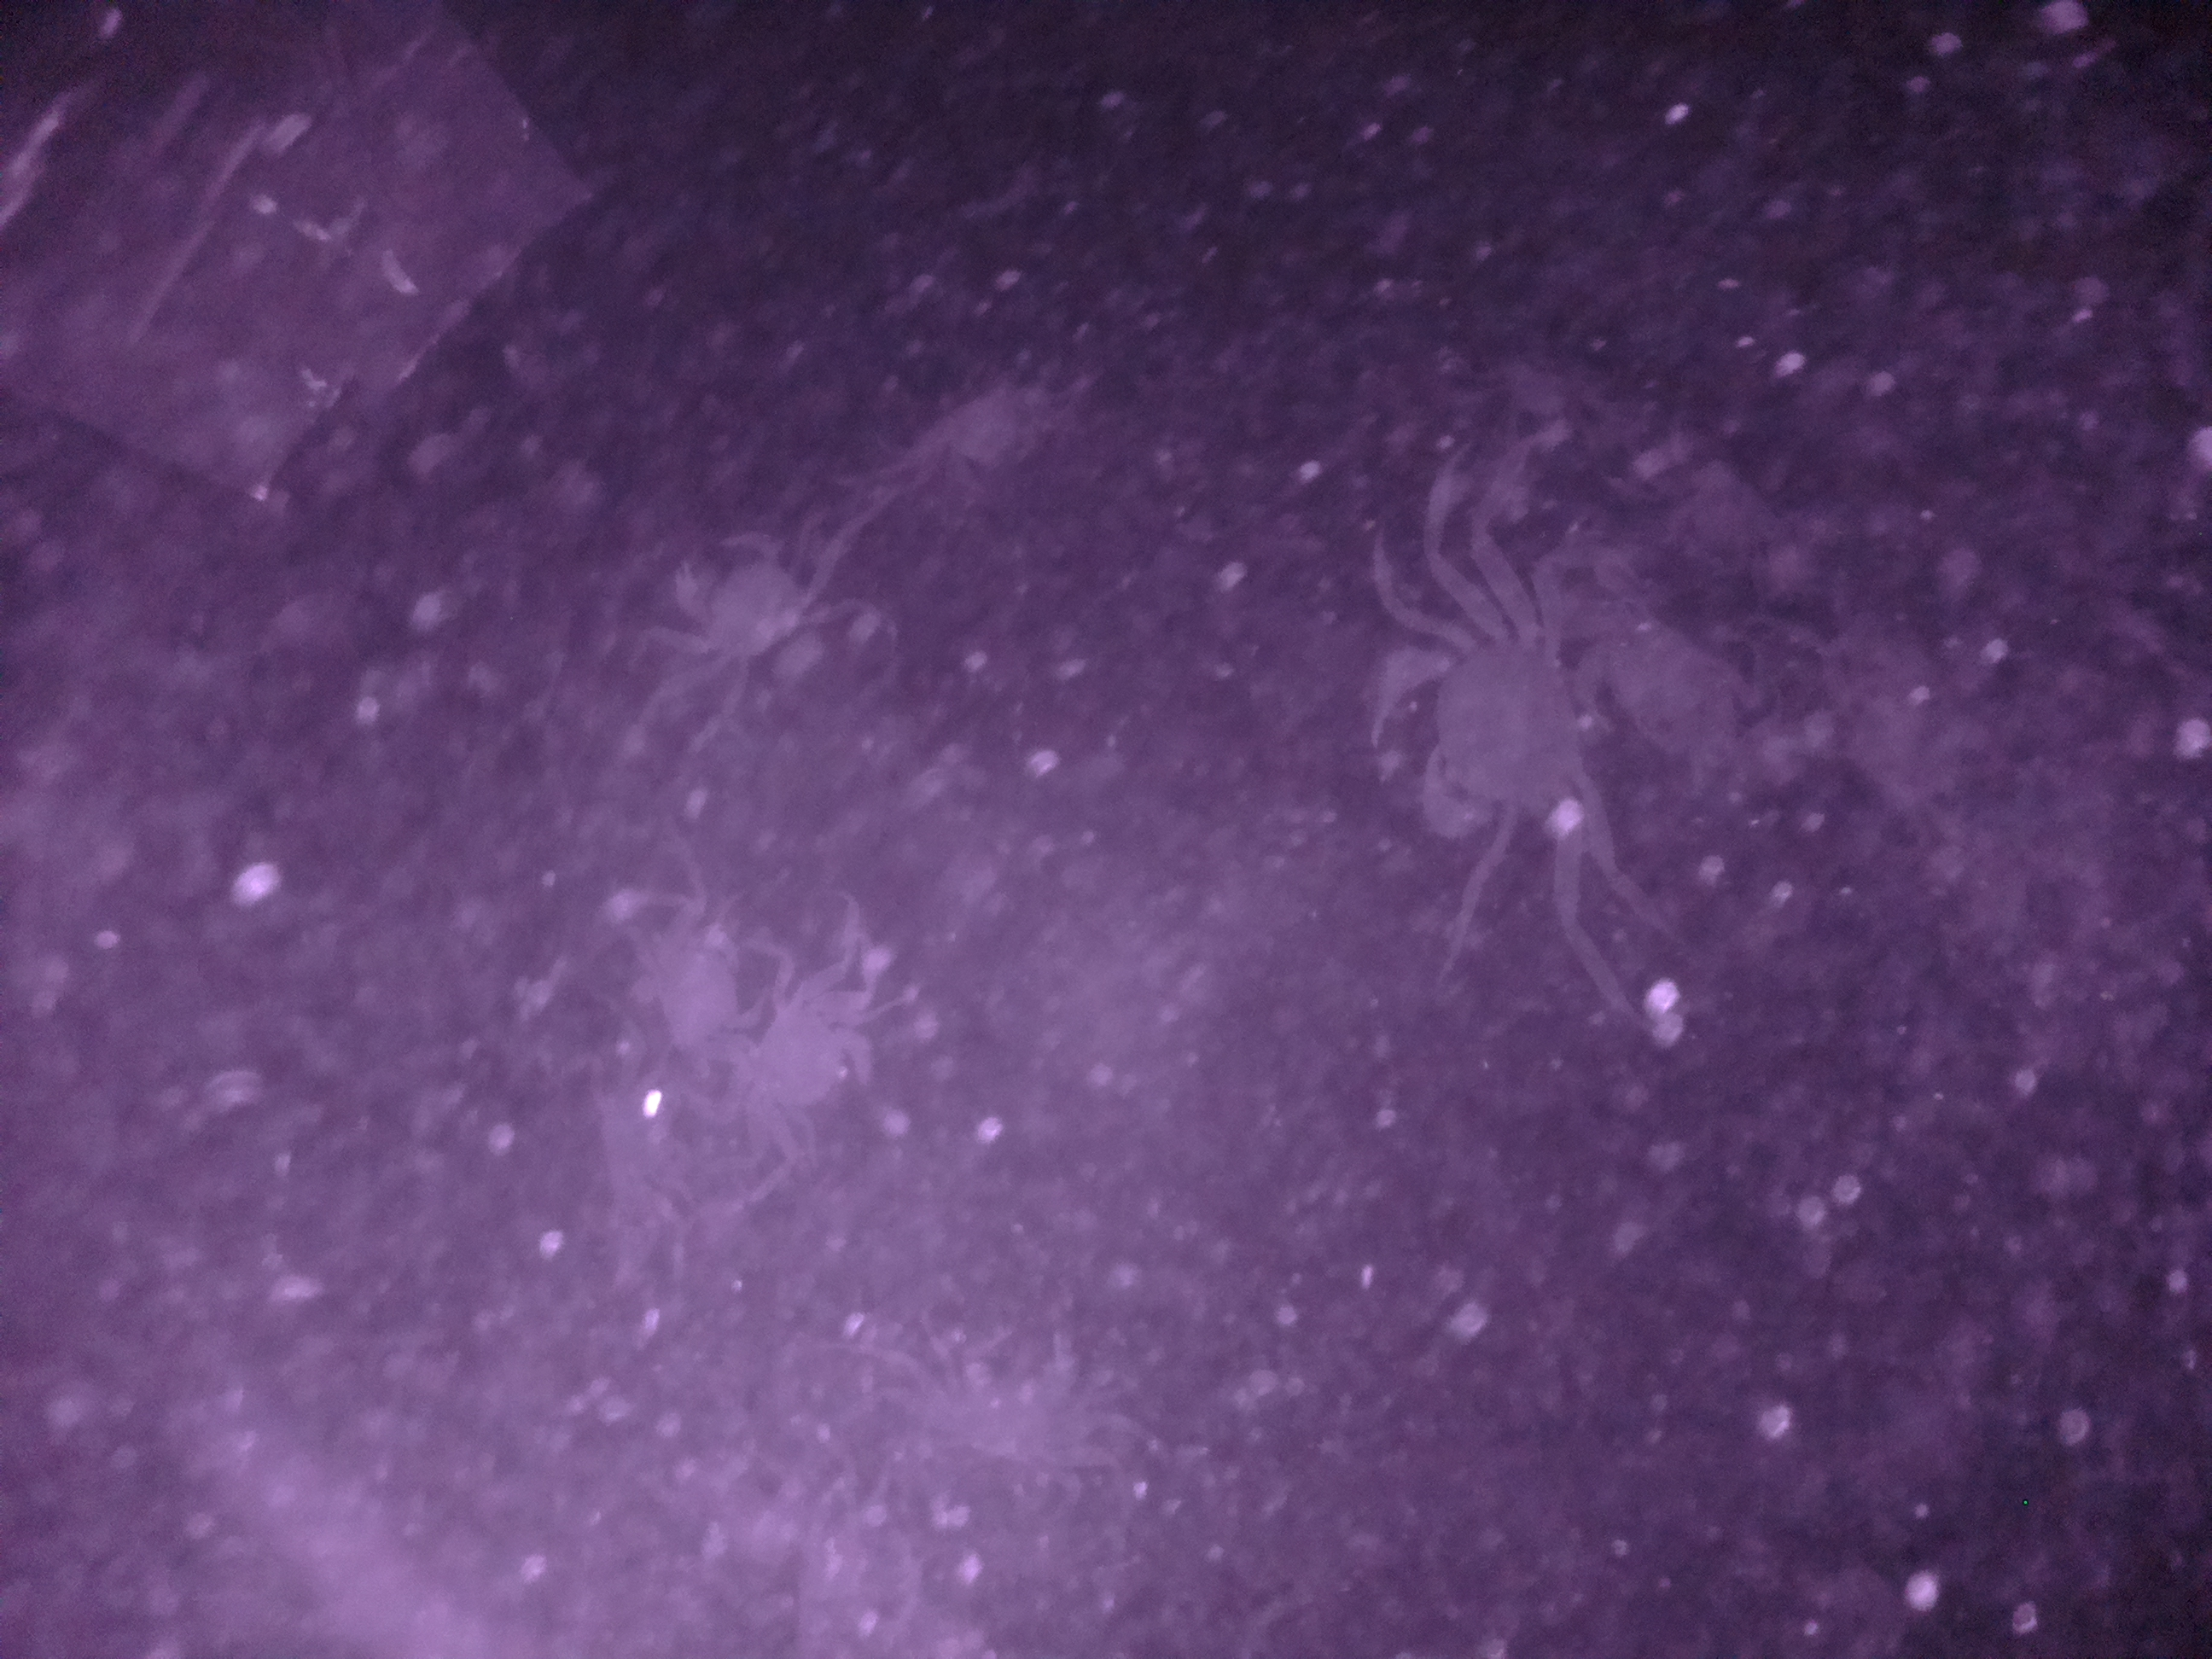Crab: (1390, 549, 1649, 856)
